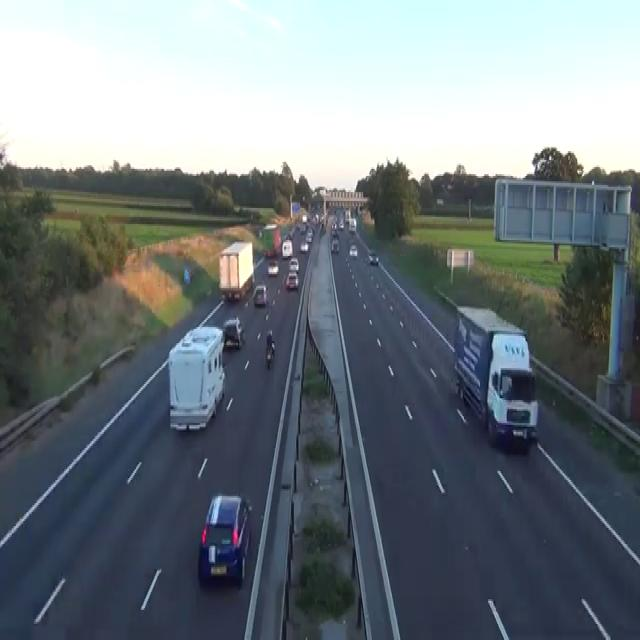Car: (198, 492, 252, 586), (222, 316, 244, 348), (265, 329, 275, 368), (253, 282, 267, 306), (285, 270, 298, 290), (267, 260, 279, 276), (183, 265, 193, 284), (367, 249, 378, 265), (289, 256, 299, 272), (266, 347, 272, 368), (264, 247, 275, 258), (349, 244, 357, 258), (331, 238, 339, 252), (305, 229, 313, 242), (300, 240, 308, 252), (330, 222, 337, 235), (283, 231, 293, 240), (299, 222, 306, 233), (331, 228, 338, 238), (338, 219, 344, 229), (302, 213, 307, 224), (264, 249, 270, 258), (436, 198, 443, 205)
Truck: (453, 304, 538, 450), (168, 324, 225, 432), (218, 240, 254, 300), (261, 222, 280, 258), (281, 238, 293, 258)
